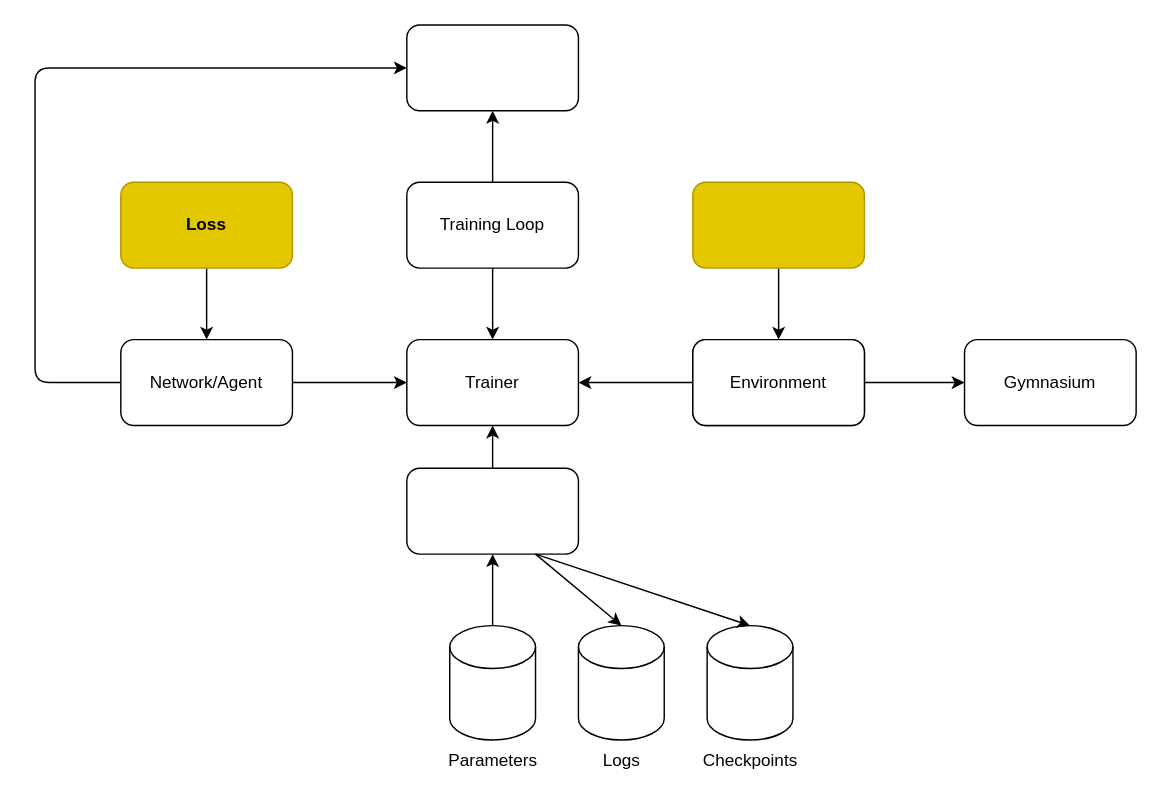
The diagram is 1161 pixels wide and 808 high, and some of its shapes have lost their labels. Each missing label, with the centre of its shape:
Lightning Fabric: the point at 491,67
loss_vegas runner: the point at 491,510
Reward: the point at 777,224
